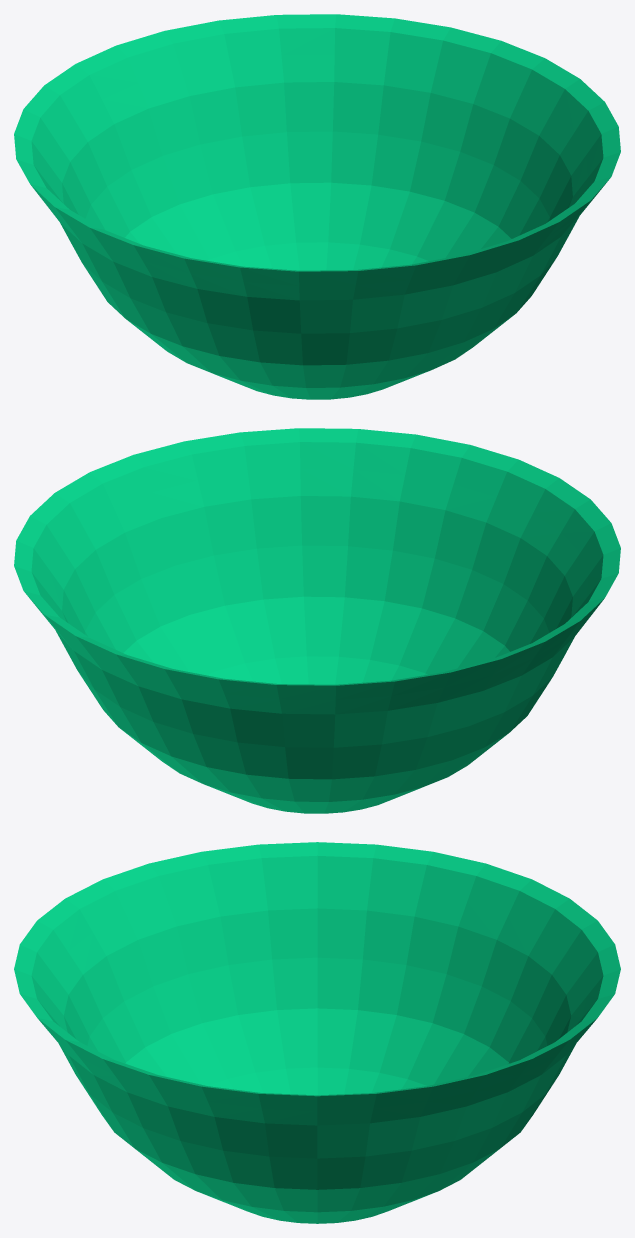
File: bowl.dae
3 renders of one model, top to bottom at view 1: azimuth 30°, elevation 25°; view 2: azimuth 150°, elevation 25°; view 3: azimuth 270°, elevation 25°, orthographic.
Parts seen in each view (by area): view 1: Cylinder; view 2: Cylinder; view 3: Cylinder.
Boxes of the visible parts, x1,y1,x2,y2 form: Cylinder: (14, 14, 620, 399); Cylinder: (14, 428, 620, 813); Cylinder: (14, 842, 620, 1223).
Bounding box in the file's own units: 2.56 × 2.58 × 1.02.
